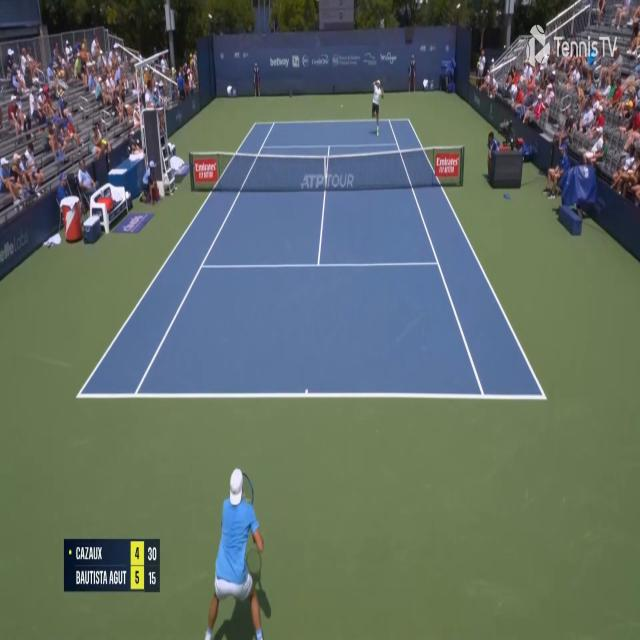tennis-player: (199, 465, 274, 638), (370, 77, 383, 136)
